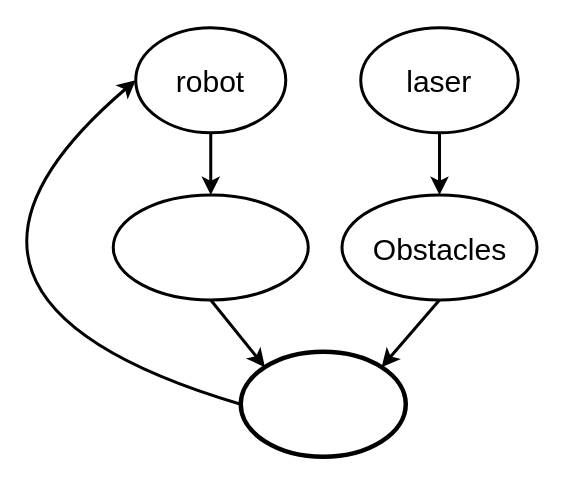
This 566x485 diagram has some shape labels left out. Each missing label, with the centre of its shape:
"localization" belongs at (210,247).
"planner" belongs at (322,403).
